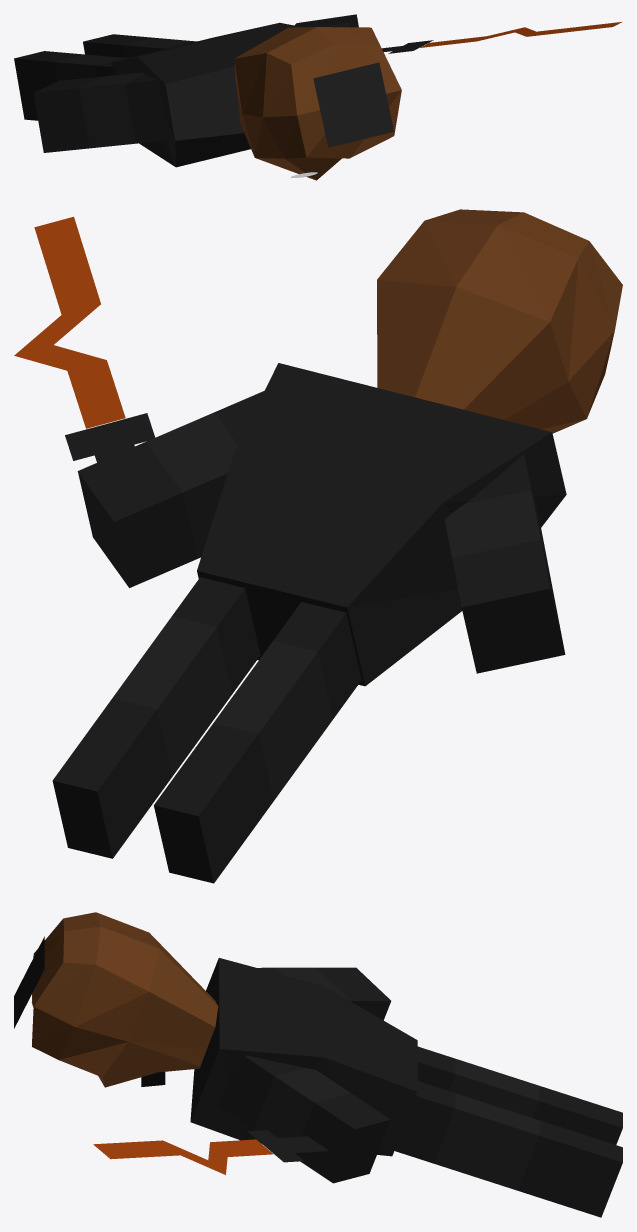
File: swordsman2d.obj
3 renders of one model, top to bottom at view 1: azimuth 30°, elevation 25°; view 2: azimuth 150°, elevation 25°; view 3: azimuth 270°, elevation 25°, orthographic. The views are drawn at different scales.
Parts seen in each view (by area): view 1: Cube, Cube.001, Cube.003, Plane.004_Plane.001, Cube.004, Cube.005, Plane.003_Plane.004, Cube.002; view 2: Cube.001, Cube, Cube.004, Cube.005, Cube.002, Cube.003, Plane.003_Plane.004, Plane.002_Plane.003; view 3: Cube, Cube.001, Cube.005, Cube.002, Cube.004, Plane.003_Plane.004, Cube.003, Plane.004_Plane.001, Plane.002_Plane.003, Plane.001_Plane.002.
Boxes of the visible parts, box(x1,y1,x2,y2) form: Cube: box(234, 27, 401, 180); Cube.001: box(112, 22, 302, 167); Cube.003: box(33, 72, 171, 152); Plane.004_Plane.001: box(313, 62, 393, 147); Cube.004: box(14, 51, 127, 120); Cube.005: box(83, 34, 196, 58); Plane.003_Plane.004: box(420, 22, 621, 47); Cube.002: box(294, 14, 358, 27); Cube.001: box(197, 363, 566, 686); Cube: box(377, 209, 622, 433); Cube.004: box(154, 602, 361, 883); Cube.005: box(52, 577, 260, 858); Cube.002: box(77, 391, 264, 587); Cube.003: box(445, 454, 565, 673); Plane.003_Plane.004: box(14, 216, 125, 428); Plane.002_Plane.003: box(65, 413, 155, 460); Cube: box(31, 912, 218, 1087); Cube.001: box(190, 958, 417, 1156); Cube.005: box(394, 1081, 622, 1217); Cube.002: box(217, 1054, 390, 1183); Cube.004: box(417, 1046, 622, 1144); Plane.003_Plane.004: box(93, 1139, 273, 1174); Cube.003: box(258, 967, 391, 1020); Plane.004_Plane.001: box(14, 936, 44, 1028); Plane.002_Plane.003: box(247, 1130, 304, 1162); Plane.001_Plane.002: box(274, 1136, 328, 1152).
Size of the model in its own units: 5.33 by 2.8 by 5.8.
